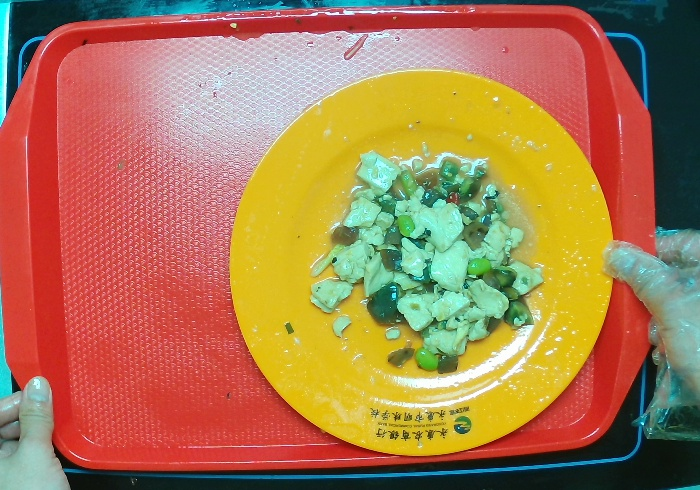YKMZ-Ju_Se_Mian_Pan: (214, 57, 620, 462)
